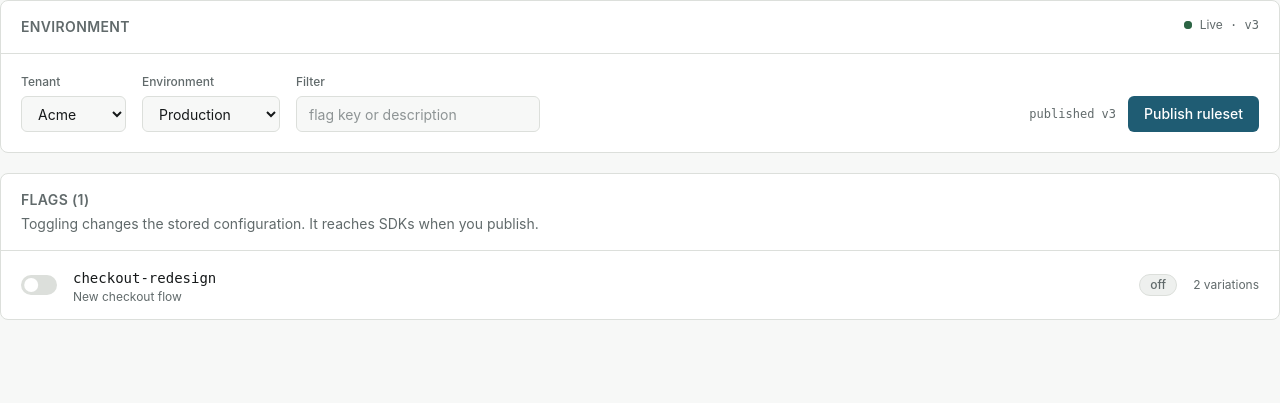
FlagList › says so when the data plane did not confirm the push
Expected: the link "checkout-redesign" is shown, top-left (73, 270), bottom-right (216, 286)
Click the button "Publish ruleset": (1194, 114) top-left (1128, 96), bottom-right (1259, 132)
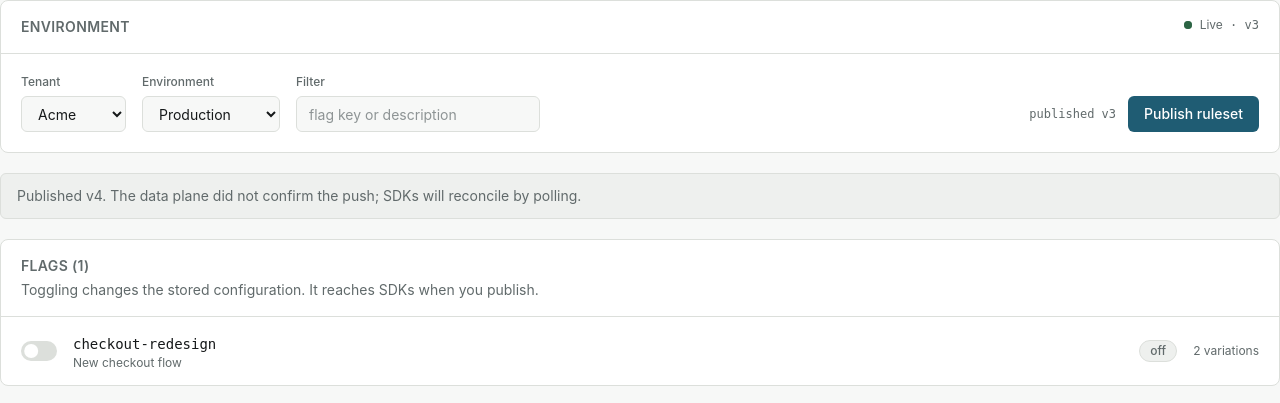
Now the text "reconcile by polling" is shown, box top-left (17, 187), bottom-right (581, 204)
